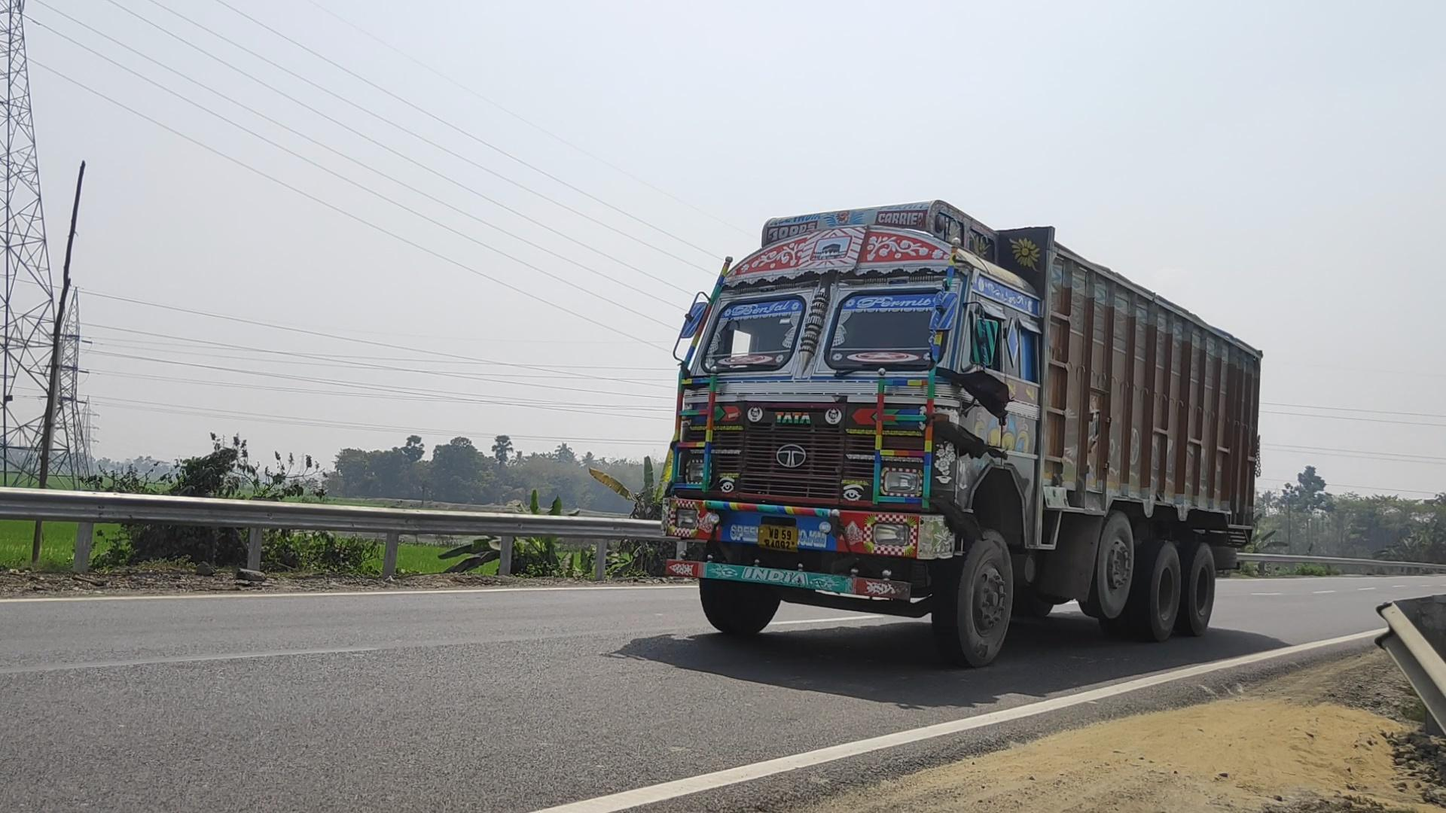truck: (666, 199, 1264, 666)
